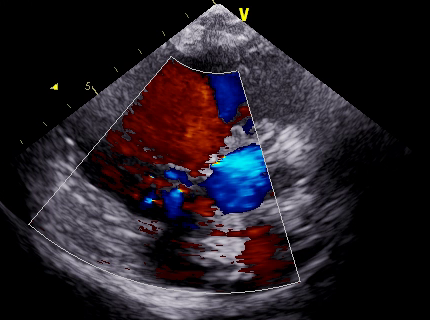TR: (149, 151, 217, 220)
